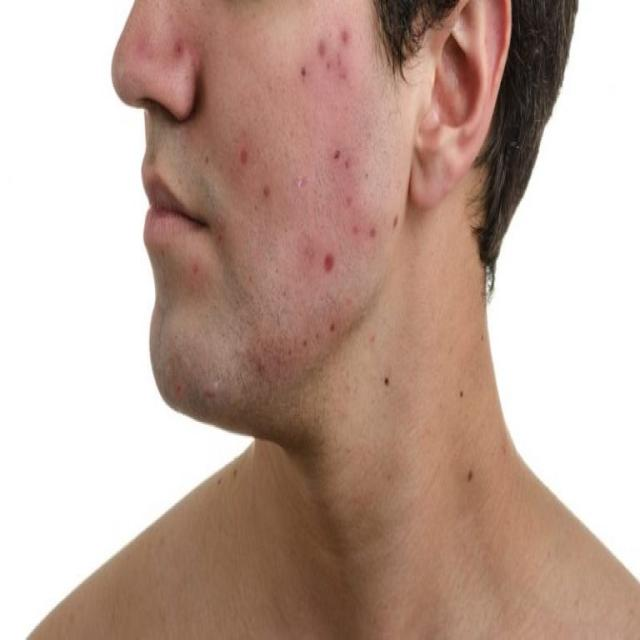Acne: (236, 16, 404, 374), (170, 28, 192, 72), (191, 258, 202, 280)
